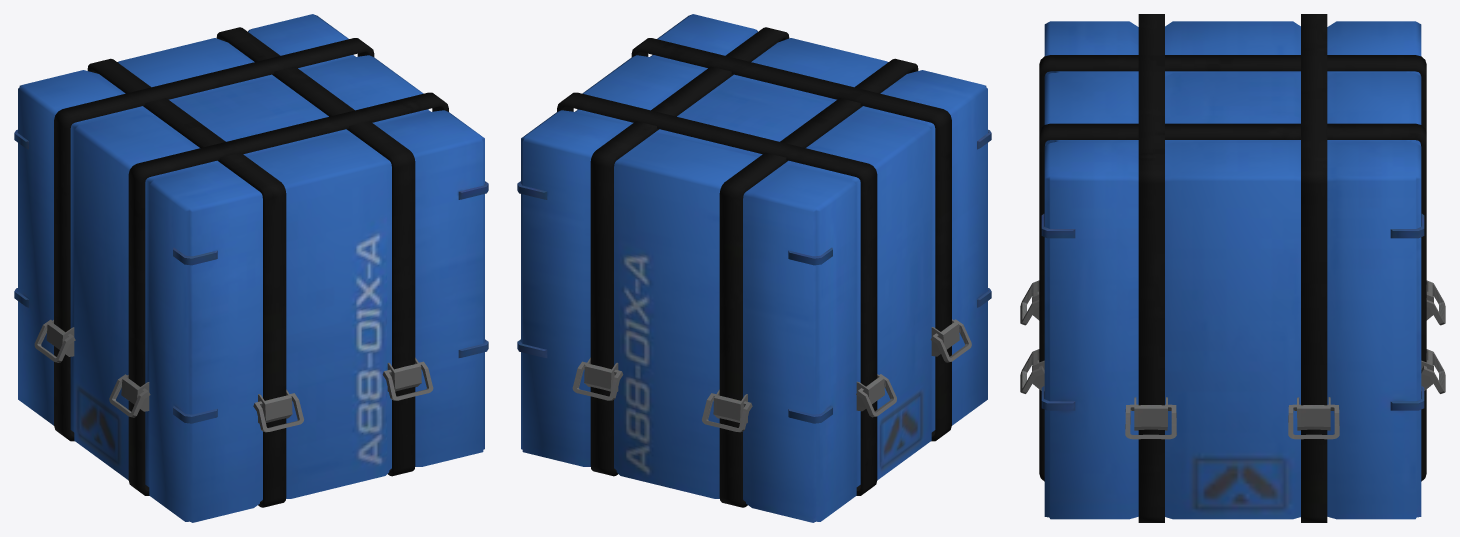
Rendered from Prop_Crate_Tarp.glb.
3 renders of one model, left to right at view 1: azimuth 30°, elevation 25°; view 2: azimuth 150°, elevation 25°; view 3: azimuth 270°, elevation 25°, orthographic. The views are drawn at different scales.
Visible parts, largest first — view 1: Prop_Crate_Tarp; view 2: Prop_Crate_Tarp; view 3: Prop_Crate_Tarp.
Boxes of the visible parts, box(x1,y1,x2,y2) form: Prop_Crate_Tarp: box(14, 14, 488, 522); Prop_Crate_Tarp: box(517, 14, 991, 522); Prop_Crate_Tarp: box(1020, 14, 1445, 522).
Bounding box in the file's own units: 1.72 × 1.57 × 1.71.
1 material, 1 textured.
